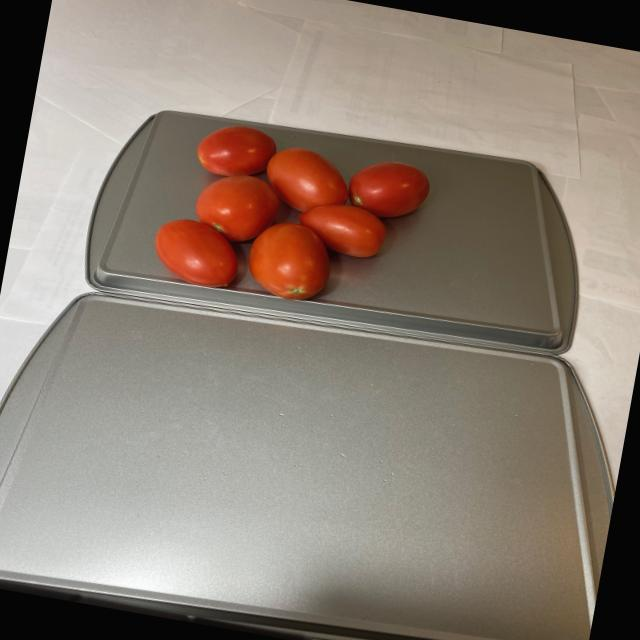tomato: (144, 114, 432, 324)
